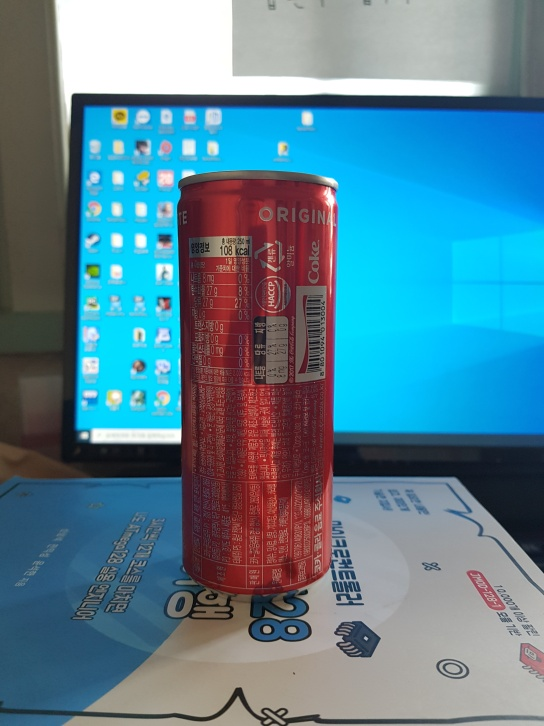Can: (173, 165, 338, 600)
